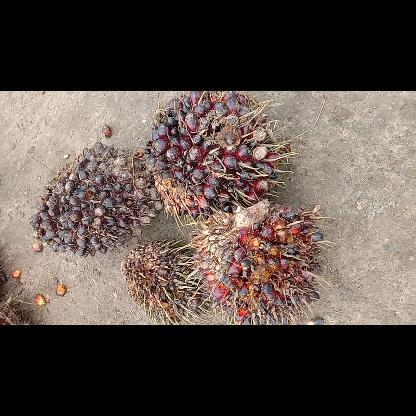Kurang masak: (146, 91, 286, 217), (30, 143, 162, 257)
TBS abnormal: (122, 239, 214, 321)
TBS masak: (192, 198, 320, 324)
